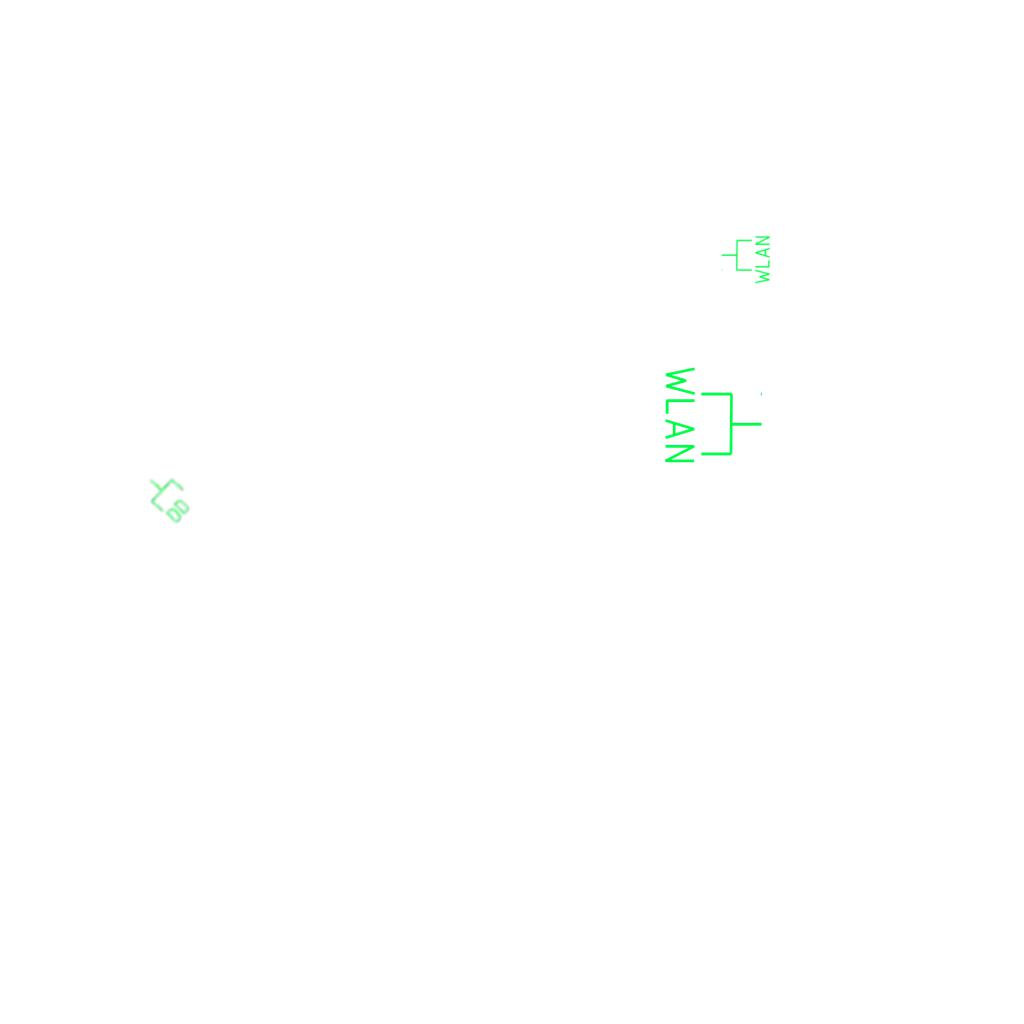Datenanschluss_zweifach: (138, 467, 199, 527)
WLAN: (661, 362, 765, 467), (720, 234, 772, 286)
